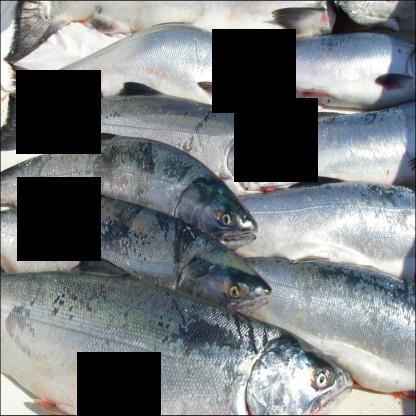fish: (0, 187, 272, 316), (0, 93, 310, 201), (0, 132, 260, 254), (7, 32, 318, 126)
